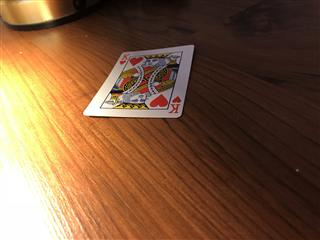KingOfHearts: (82, 44, 195, 117)
